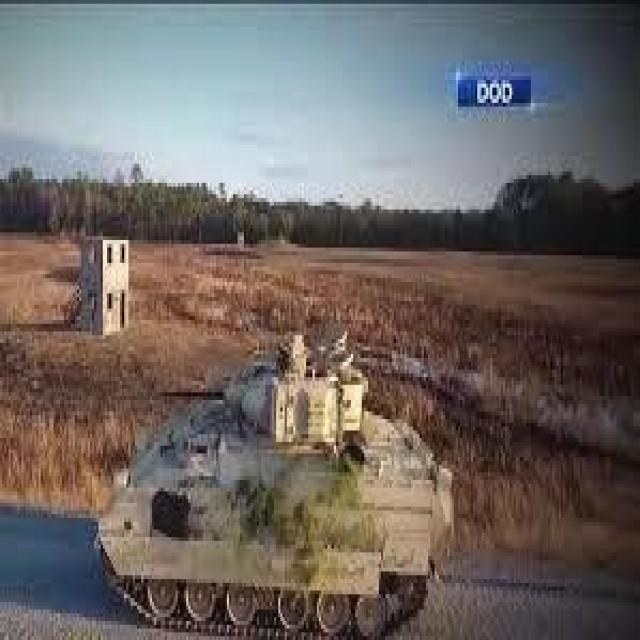Tanks: (75, 261, 484, 627)
